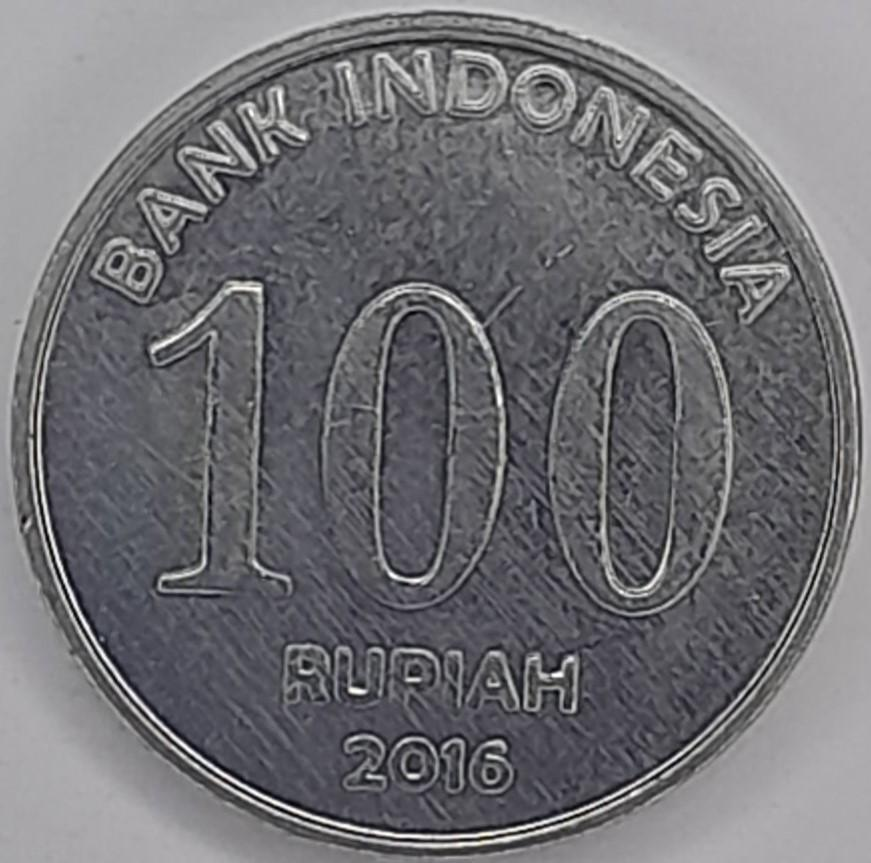coin_100_e2016: (4, 2, 868, 859)
